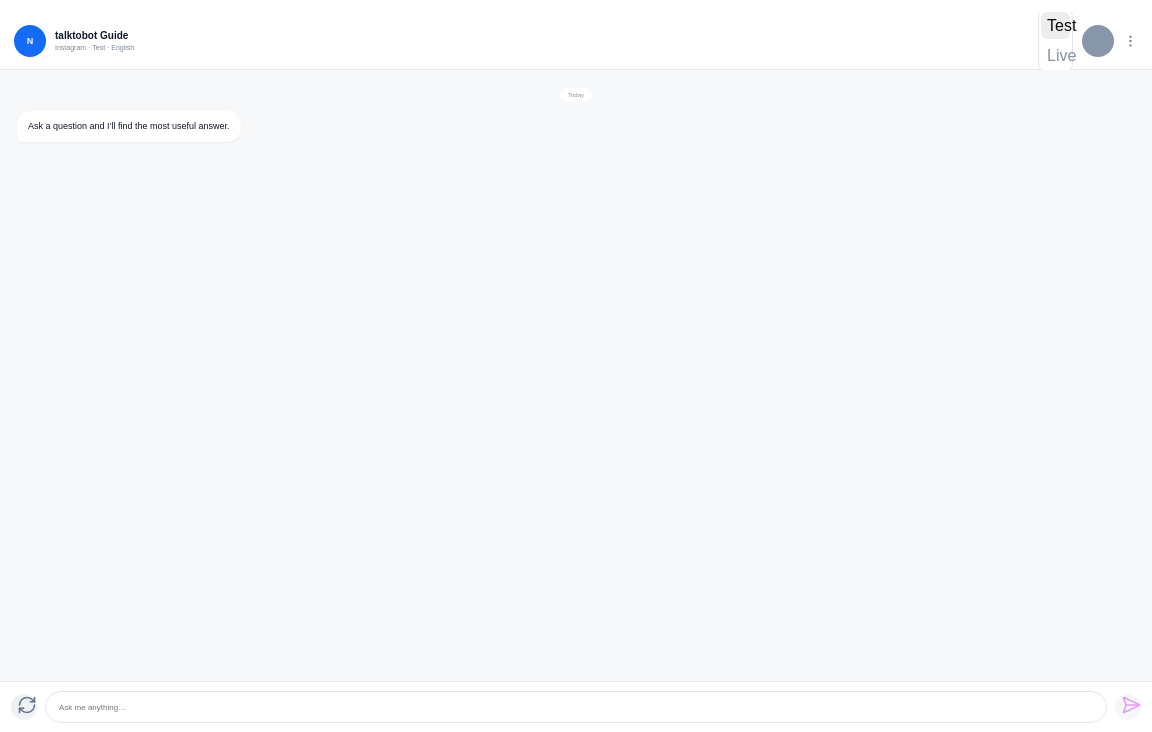
Test: Interactive channel workspace › keeps Live clickable for Instagram even without a provider integration
This screenshot has width=1152, height=732.
Click the button "Live".
click(1056, 56)  # box [1041, 42, 1070, 69]
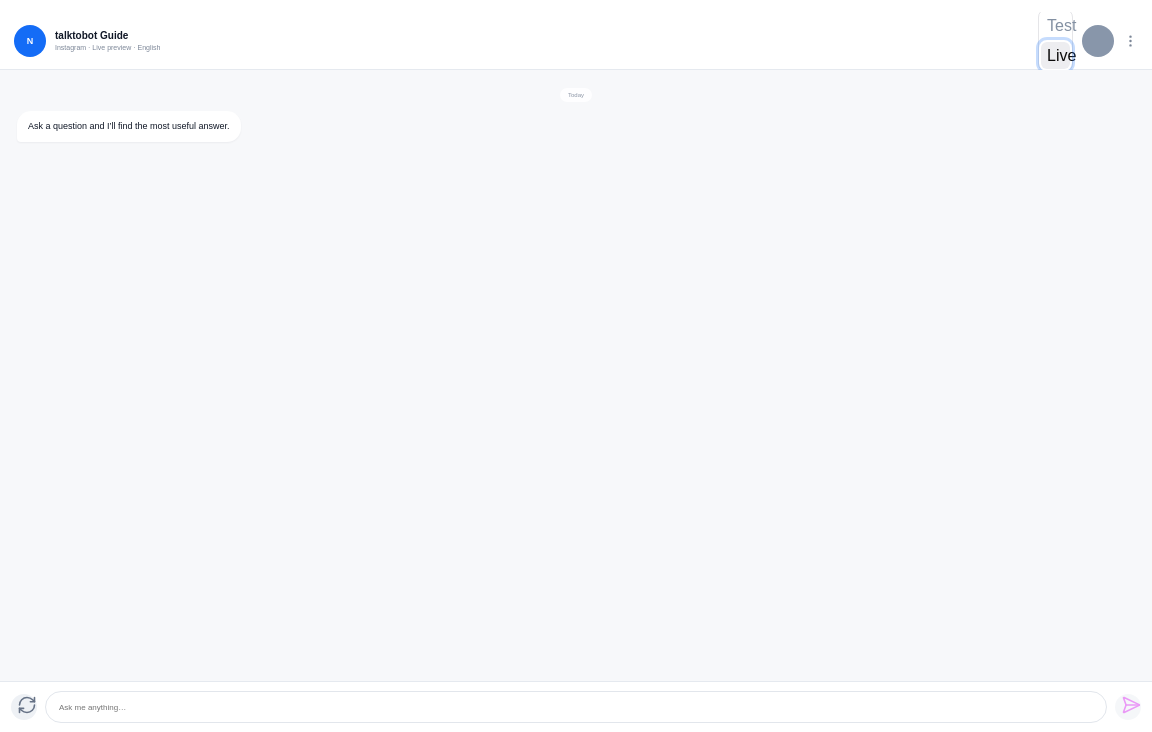
Check: the text "Instagram · Live preview · English" is shown, box [55, 44, 160, 51]
Type "Show me the live preview" into the field named "Live channel reply".
click(576, 707); type("Show me the live preview")  # box [57, 702, 1095, 712]
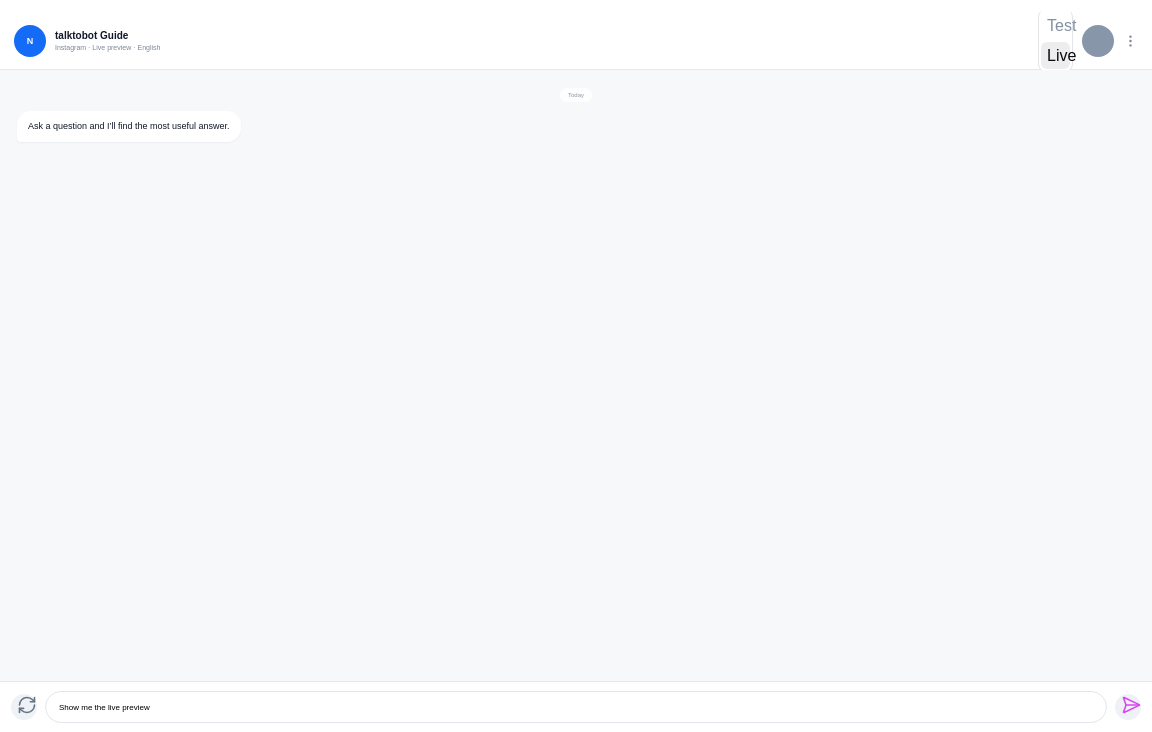
Click the button named "Send live reply".
click(1128, 707)  # box [1115, 694, 1141, 720]
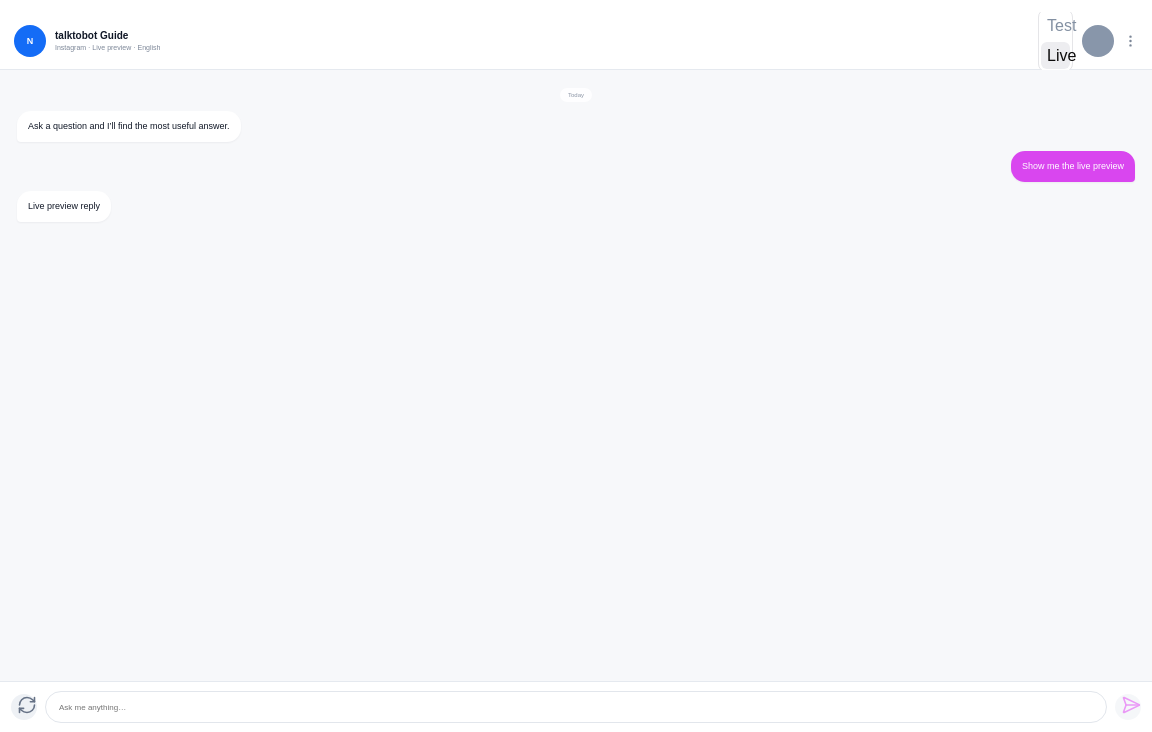
Check: the text "Live preview reply" is shown, box [17, 191, 111, 222]
